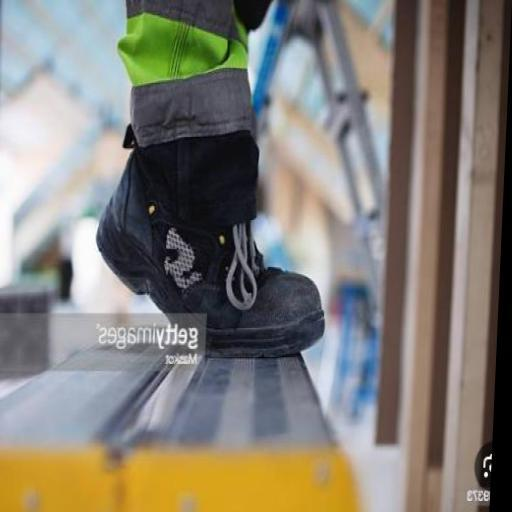safety_boots: (66, 138, 328, 369)
